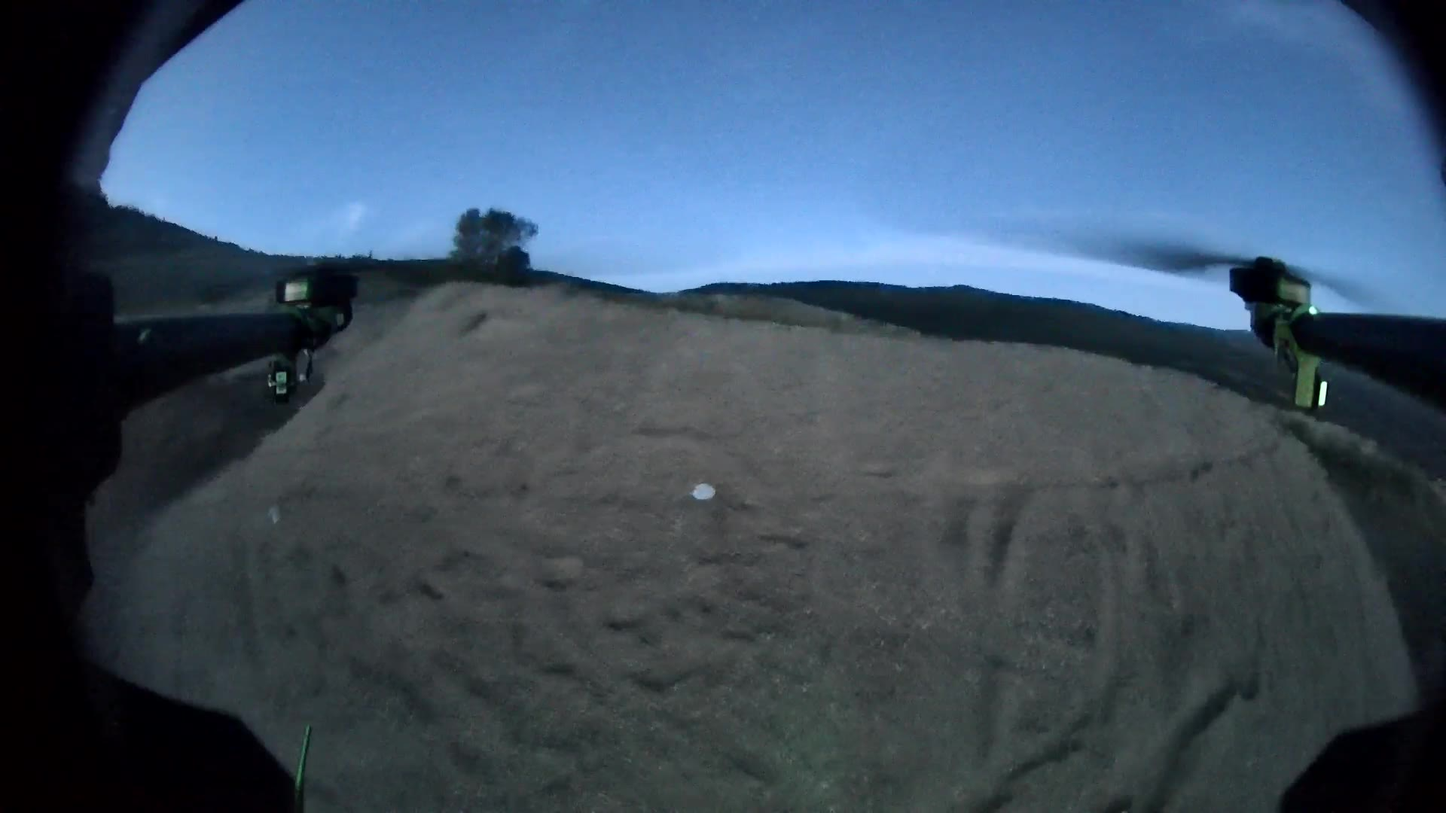Target: (691, 482, 717, 501)
